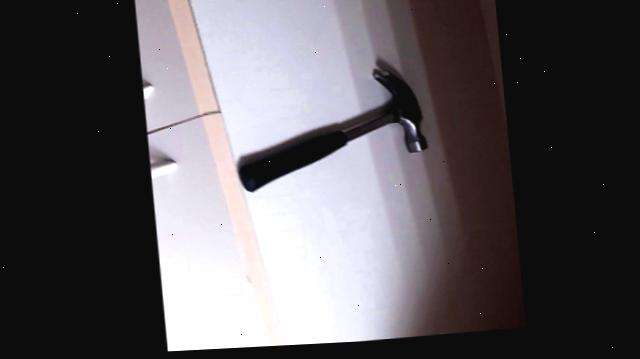hammer: (230, 57, 435, 199)
